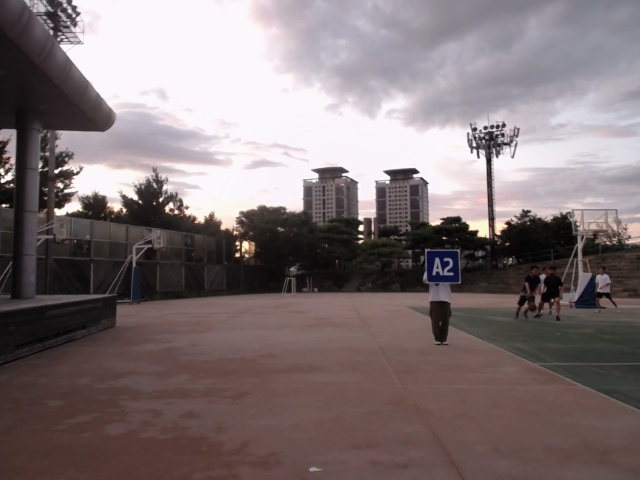delivery_a2: (426, 249, 460, 284)
